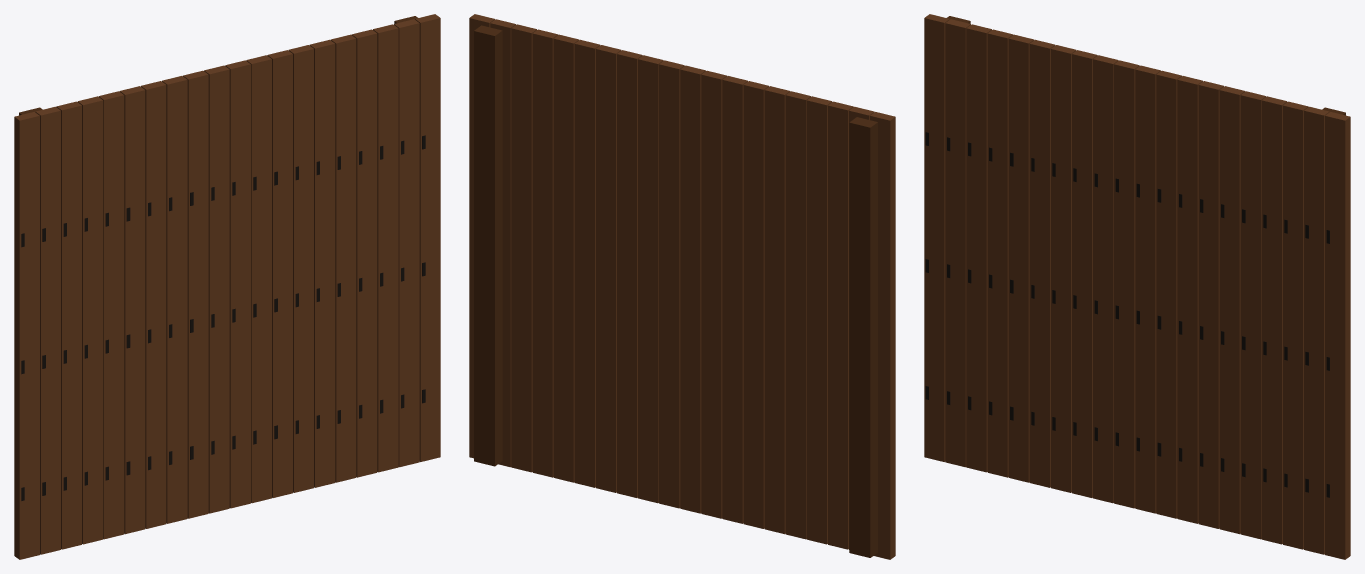
Rendered from SM_Izba_Floor4m_1348_LOD0.obj.
3 views of the same model, side by side, from view 1: azimuth 30°, elevation 25°; view 2: azimuth 150°, elevation 25°; view 3: azimuth 330°, elevation 25° (orthographic).
Visible parts, largest first — view 1: planed_floorboard, aged_knot_and_grain; view 2: planed_floorboard, floor_joist; view 3: planed_floorboard, aged_knot_and_grain.
Part boxes in pixels (<box>): planed_floorboard: <box>14,14,440,559</box>; aged_knot_and_grain: <box>21,135,425,500</box>; planed_floorboard: <box>469,14,895,559</box>; floor_joist: <box>474,25,877,557</box>; planed_floorboard: <box>924,14,1350,559</box>; aged_knot_and_grain: <box>925,132,1329,497</box>.
Bounding box in the file's own units: 3.99 × 3.98 × 0.217.
